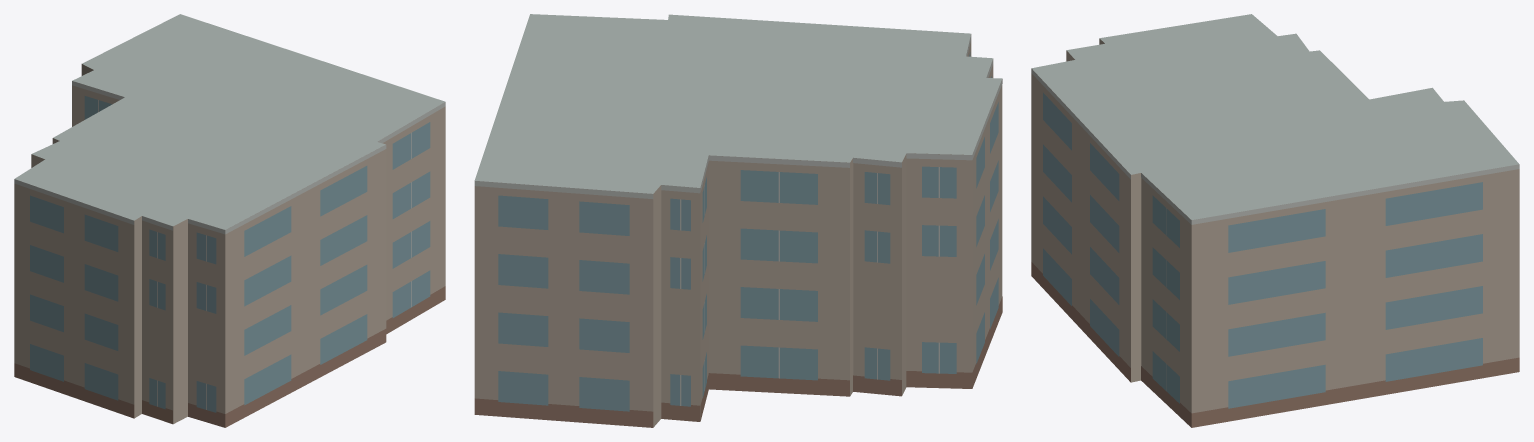
Rendered from survey-upis-33009483.glb.
3 renders of one model, left to right at view 1: azimuth 30°, elevation 25°; view 2: azimuth 150°, elevation 25°; view 3: azimuth 270°, elevation 25°, orthographic. The views are drawn at different scales.
Visible parts, largest first — view 1: survey-upis-33009483.tmp; view 2: survey-upis-33009483.tmp; view 3: survey-upis-33009483.tmp.
Boxes of the visible parts, <box> form: survey-upis-33009483.tmp: <box>14,14,445,427</box>; survey-upis-33009483.tmp: <box>474,14,1002,427</box>; survey-upis-33009483.tmp: <box>1031,14,1519,427</box>.
Bounding box in the file's own units: 23.01 × 10.8 × 23.02.
